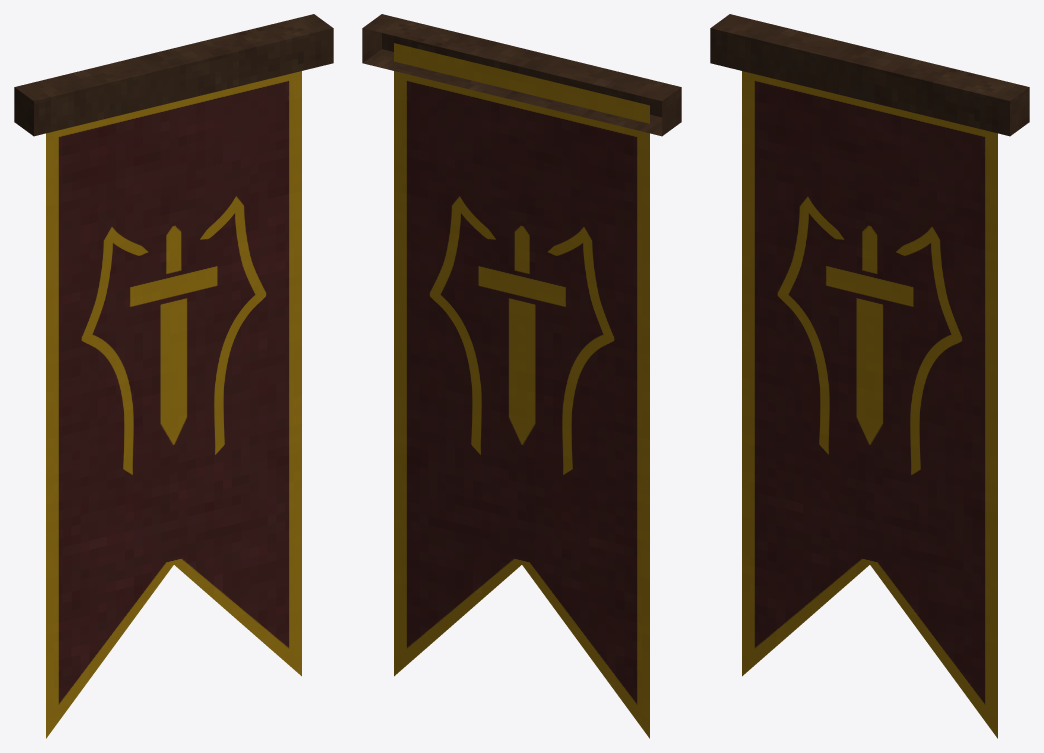
Rendered from Banner2.fbx.
The picture shows the model from 3 angles, left to right: view 1: azimuth 30°, elevation 25°; view 2: azimuth 150°, elevation 25°; view 3: azimuth 330°, elevation 25°; orthographic projection.
Visible parts, largest first — view 1: Plane, Cube; view 2: Plane, Cube; view 3: Plane, Cube.
Part boxes in pixels (x1,y1,x2,y2): Plane: (46, 71, 301, 738); Cube: (14, 14, 333, 136); Plane: (394, 43, 649, 738); Cube: (362, 14, 681, 136); Plane: (742, 71, 997, 738); Cube: (710, 14, 1029, 136).
Size of the model in its own units: 80.18 by 166 by 8.98.
Materials: 2 (2 with a texture image).
